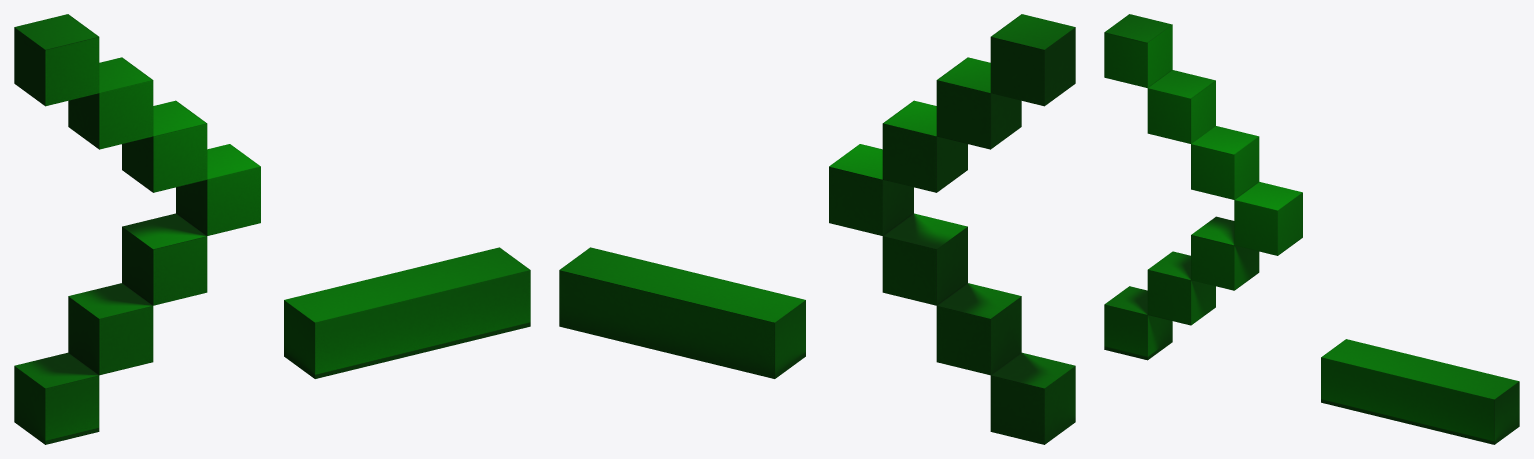
Rendered from cmd.glb.
The picture shows the model from 3 angles, left to right: view 1: azimuth 30°, elevation 25°; view 2: azimuth 150°, elevation 25°; view 3: azimuth 330°, elevation 25°; orthographic projection. The views are drawn at different scales.
Parts seen in each view (by area): view 1: cmd; view 2: cmd; view 3: cmd.
Part boxes in pixels (x1,y1,x2,y2): cmd: (14,14,530,444); cmd: (559,14,1075,444); cmd: (1104,14,1519,444).
Size of what is drawn, in the model's own units: 9 by 7 by 1.
Materials: 1 (1 with a texture image).
